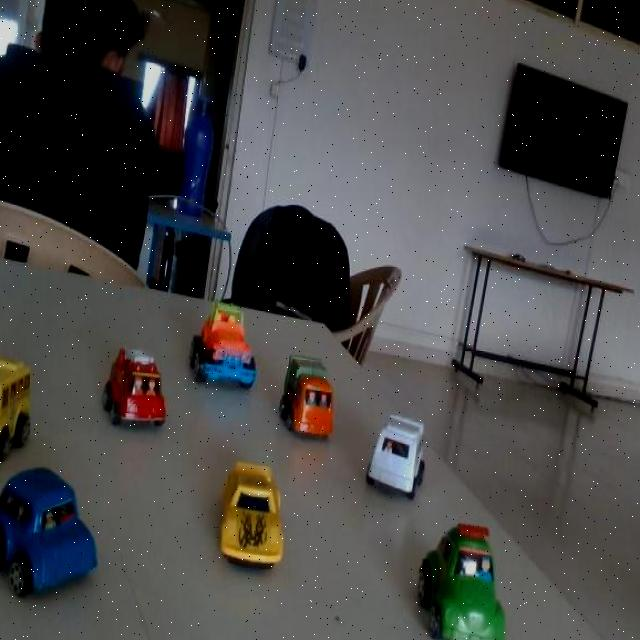car: (380, 481, 578, 640), (177, 448, 343, 601), (352, 389, 461, 524), (10, 473, 102, 593), (175, 285, 263, 395), (274, 335, 348, 463), (110, 346, 176, 441), (0, 369, 46, 456)
